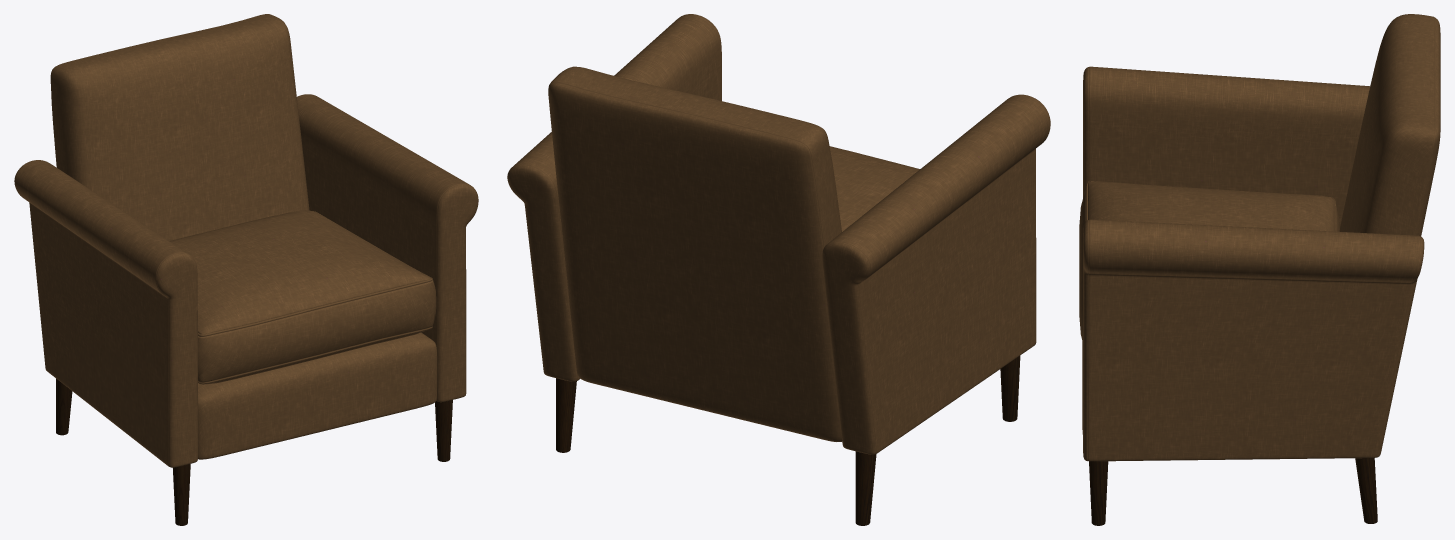
Rendered from unknown_tuscany_fbx_upZ.fbx.
The picture shows the model from 3 angles, left to right: view 1: azimuth 30°, elevation 25°; view 2: azimuth 150°, elevation 25°; view 3: azimuth 270°, elevation 25°; orthographic projection. The views are drawn at different scales.
Visible parts, largest first — view 1: unknown_tuscany; view 2: unknown_tuscany; view 3: unknown_tuscany.
Boxes of the visible parts, left/top/right/bottom form: unknown_tuscany: left=14, top=14, right=478, bottom=525; unknown_tuscany: left=507, top=14, right=1050, bottom=525; unknown_tuscany: left=1079, top=14, right=1440, bottom=525.
Size of the model in its own units: 103 by 89.96 by 105.
